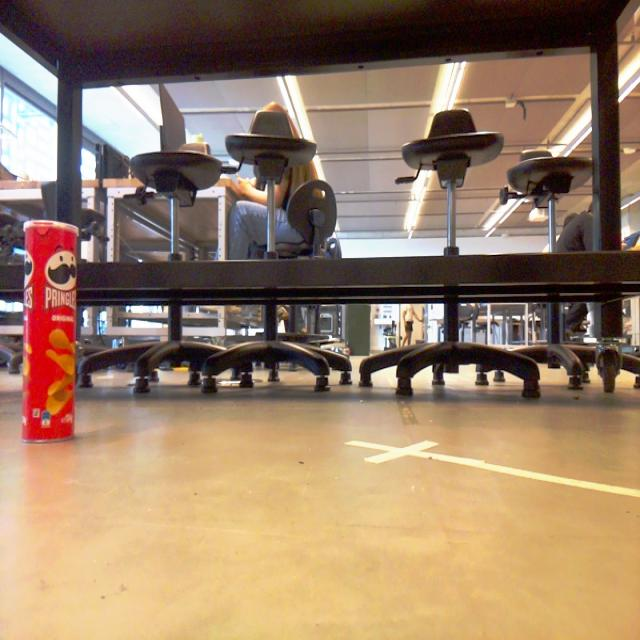redpringles: (15, 205, 87, 454)
